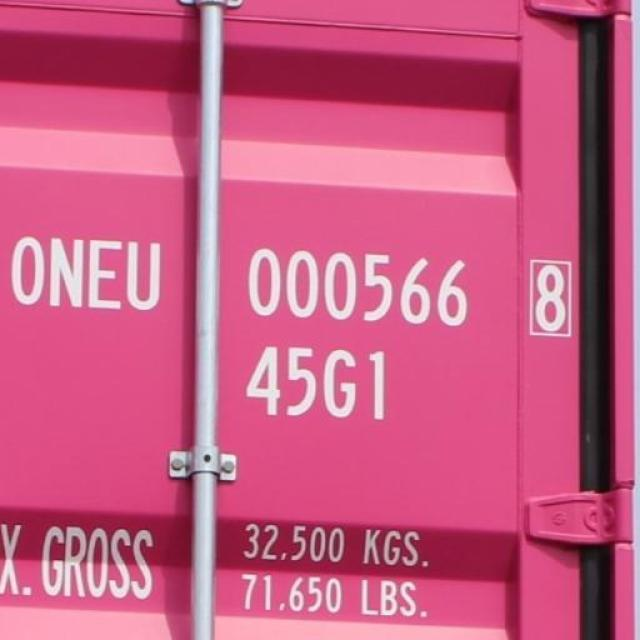ISO: (230, 336, 410, 429)
container_number: (7, 226, 576, 338)
